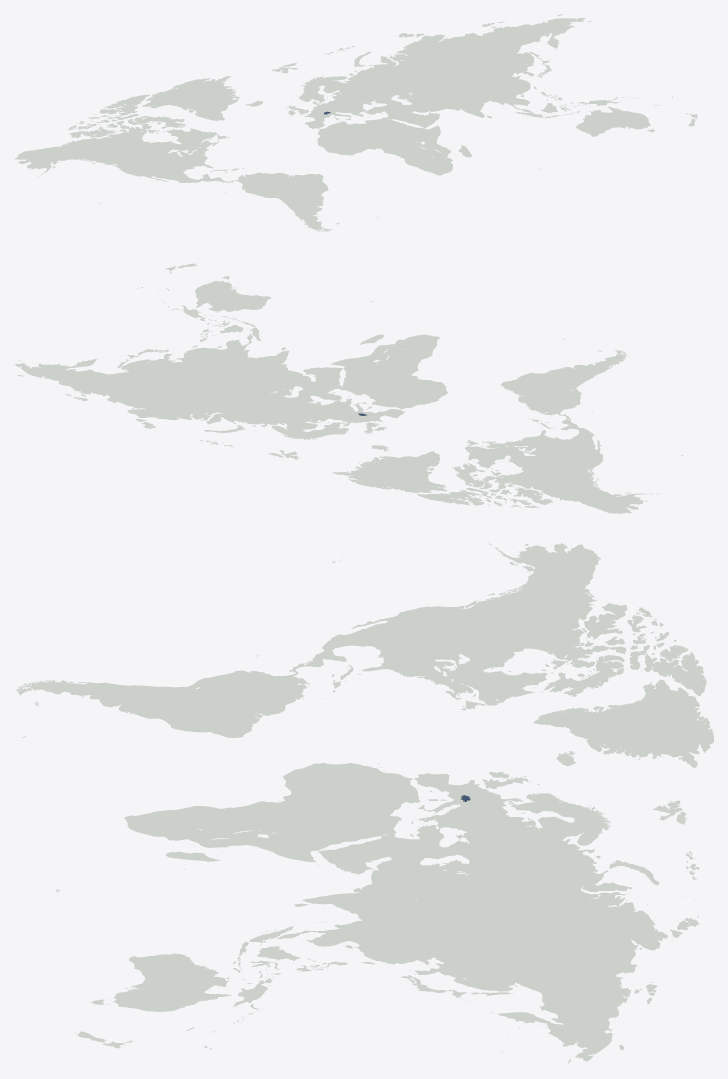
Rendered from map_switzerland_base.glb.
The picture shows the model from 3 angles, top to bottom: view 1: azimuth 30°, elevation 25°; view 2: azimuth 150°, elevation 25°; view 3: azimuth 270°, elevation 25°; orthographic projection. The views are drawn at different scales.
Visible parts, largest first — view 1: countryFill_RU, countryFill_CA, countryFill_US, countryFill_GL, countryFill_CN, countryFill_AU, countryFill_BR, countryFill_KZ, countryFill_AR, countryFill_IN, countryFill_MN, countryFill_DZ; view 2: countryFill_RU, countryFill_CA, countryFill_US, countryFill_GL, countryFill_CN, countryFill_AU, countryFill_BR, countryFill_KZ, countryFill_AR, countryFill_IN, countryFill_DZ, countryFill_MN; view 3: countryFill_RU, countryFill_CA, countryFill_US, countryFill_GL, countryFill_CN, countryFill_AU, countryFill_BR, countryFill_KZ, countryFill_AR, countryFill_IN, countryFill_DZ, countryFill_MN (+8 smaller).
Part boxes in pixels (x1=…): countryFill_RU: x1=324, y1=14, x2=584, y2=103; countryFill_CA: x1=53, y1=95, x2=228, y2=164; countryFill_US: x1=15, y1=21, x2=591, y2=203; countryFill_GL: x1=142, y1=76, x2=239, y2=120; countryFill_CN: x1=441, y1=59, x2=530, y2=98; countryFill_AU: x1=576, y1=106, x2=654, y2=136; countryFill_BR: x1=257, y1=173, x2=328, y2=202; countryFill_KZ: x1=384, y1=78, x2=448, y2=99; countryFill_AR: x1=288, y1=198, x2=332, y2=229; countryFill_IN: x1=448, y1=94, x2=492, y2=117; countryFill_MN: x1=450, y1=66, x2=502, y2=80; countryFill_DZ: x1=324, y1=122, x2=361, y2=138; countryFill_RU: x1=15, y1=359, x2=329, y2=446; countryFill_CA: x1=417, y1=440, x2=601, y2=507; countryFill_US: x1=19, y1=360, x2=682, y2=513; countryFill_GL: x1=333, y1=451, x2=446, y2=492; countryFill_CN: x1=140, y1=346, x2=258, y2=384; countryFill_AU: x1=195, y1=276, x2=270, y2=311; countryFill_BR: x1=501, y1=368, x2=569, y2=404; countryFill_KZ: x1=222, y1=381, x2=292, y2=402; countryFill_AR: x1=557, y1=350, x2=621, y2=382; countryFill_IN: x1=231, y1=351, x2=288, y2=375; countryFill_DZ: x1=376, y1=390, x2=416, y2=406; countryFill_MN: x1=168, y1=369, x2=220, y2=384; countryFill_RU: x1=442, y1=815, x2=699, y2=1061; countryFill_CA: x1=437, y1=581, x2=706, y2=709; countryFill_US: x1=333, y1=543, x2=600, y2=1062; countryFill_GL: x1=533, y1=680, x2=713, y2=767; countryFill_CN: x1=345, y1=894, x2=507, y2=981; countryFill_AU: x1=91, y1=954, x2=230, y2=1011; countryFill_BR: x1=125, y1=681, x2=281, y2=737; countryFill_KZ: x1=441, y1=854, x2=514, y2=912; countryFill_AR: x1=19, y1=683, x2=173, y2=710; countryFill_IN: x1=303, y1=886, x2=415, y2=928; countryFill_DZ: x1=342, y1=775, x2=418, y2=804; countryFill_MN: x1=447, y1=914, x2=497, y2=960.
Size of the model in its own units: 211 by 0.1649 by 120.
